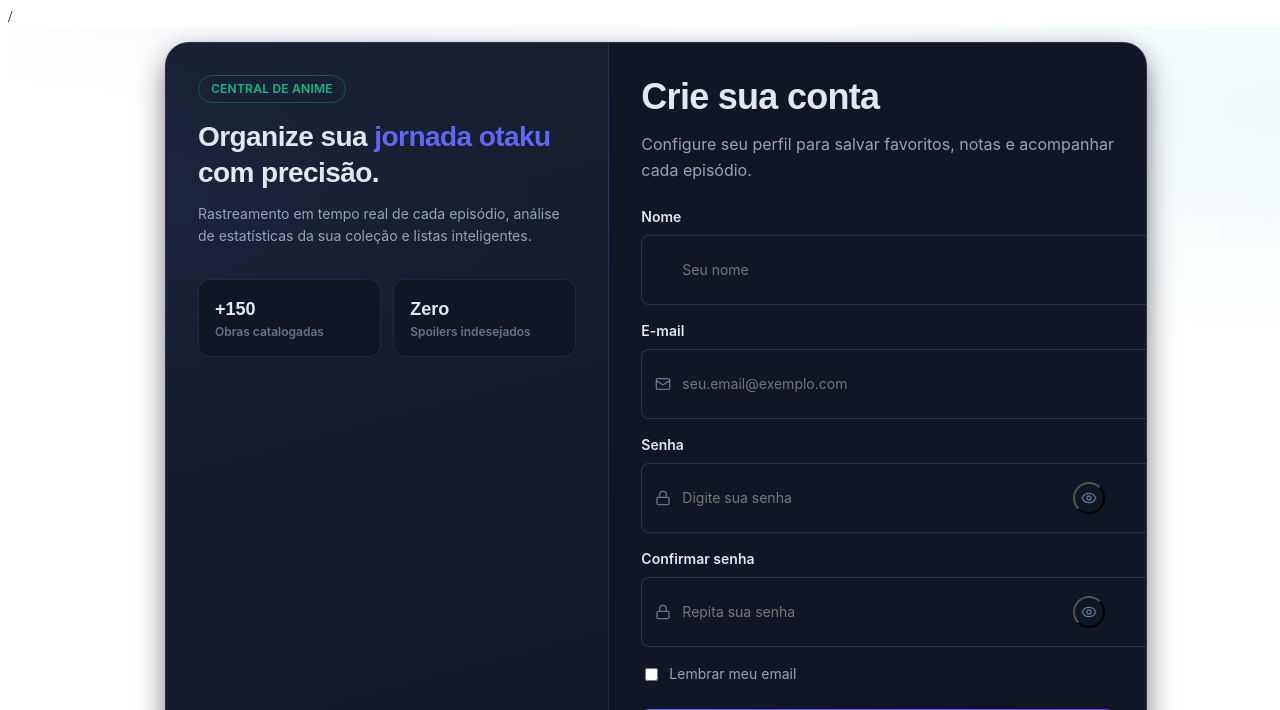
Test: frontend authentication flows › bloqueia cadastro com confirmação divergente sem chamar o serviço
Type "Pessoa" into the field with placeholder "Seu nome" at (919, 270), box [641, 235, 1196, 305]
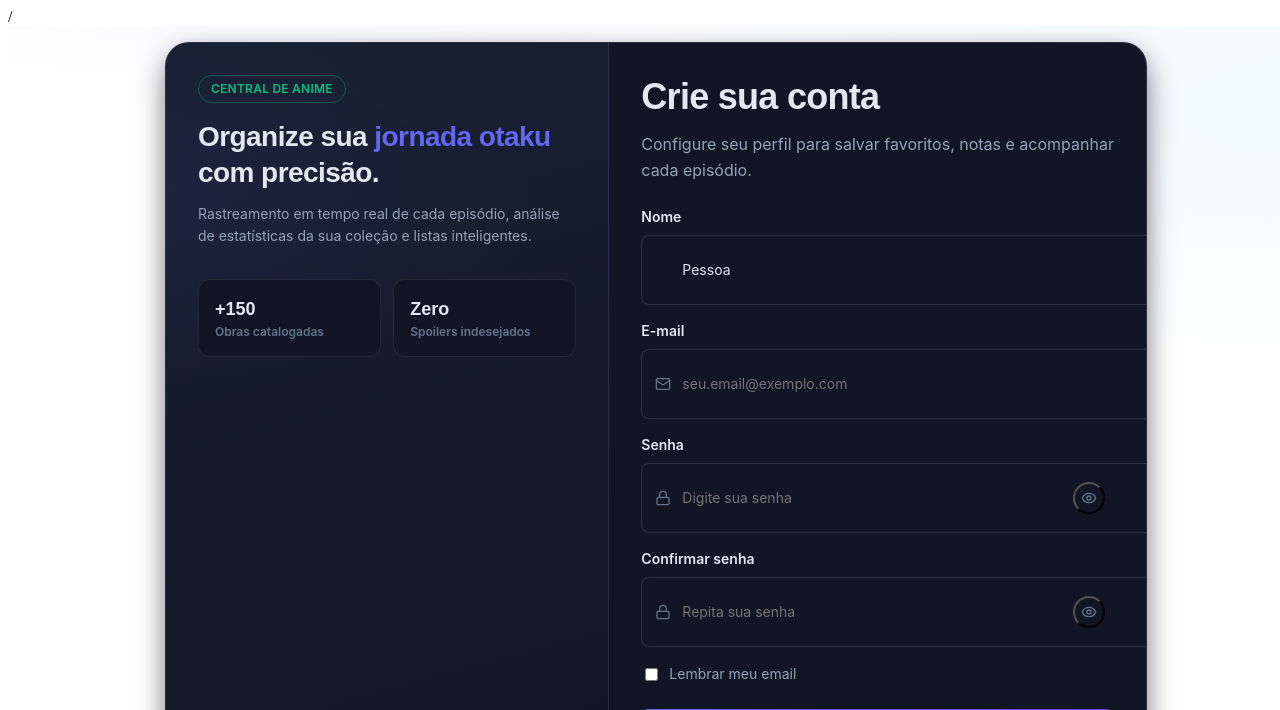
Type "pessoa@example.test" into the field with placeholder "seu.email@exemplo.com" at (919, 384), box [641, 349, 1196, 419]
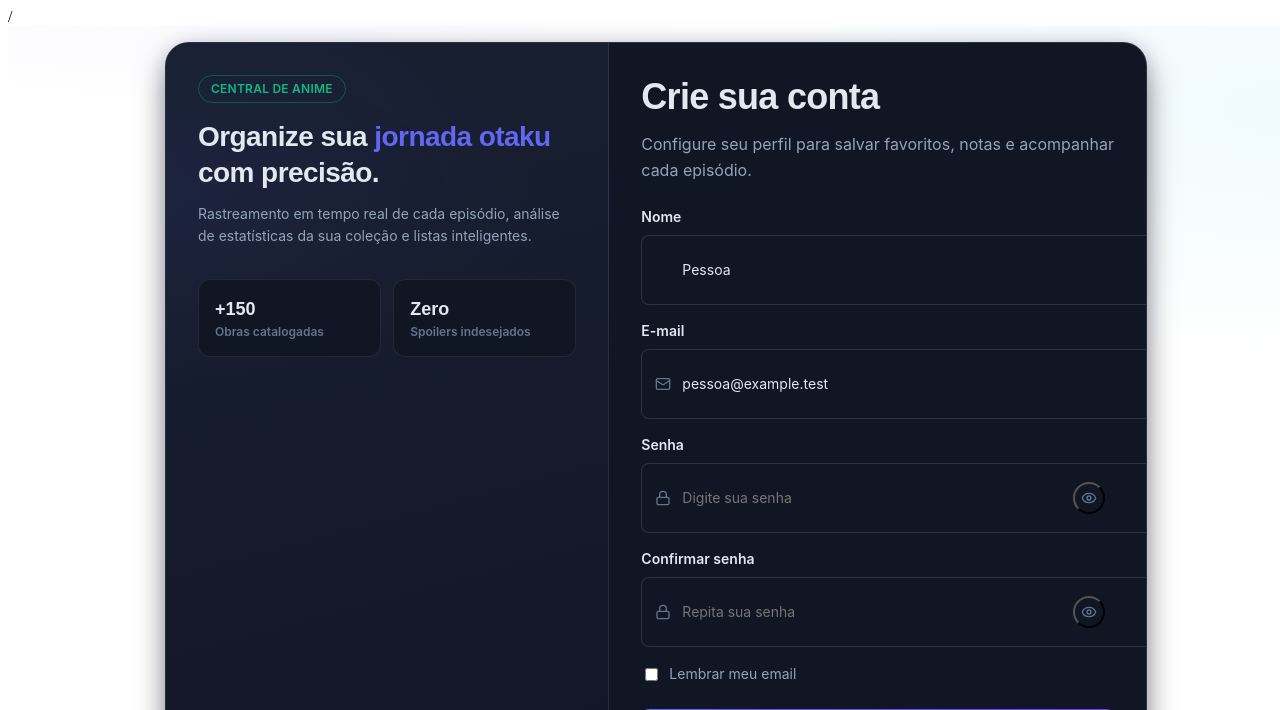
Type "senha-segura" into the password field with placeholder "Digite sua senha" at (919, 498), box [641, 463, 1196, 533]
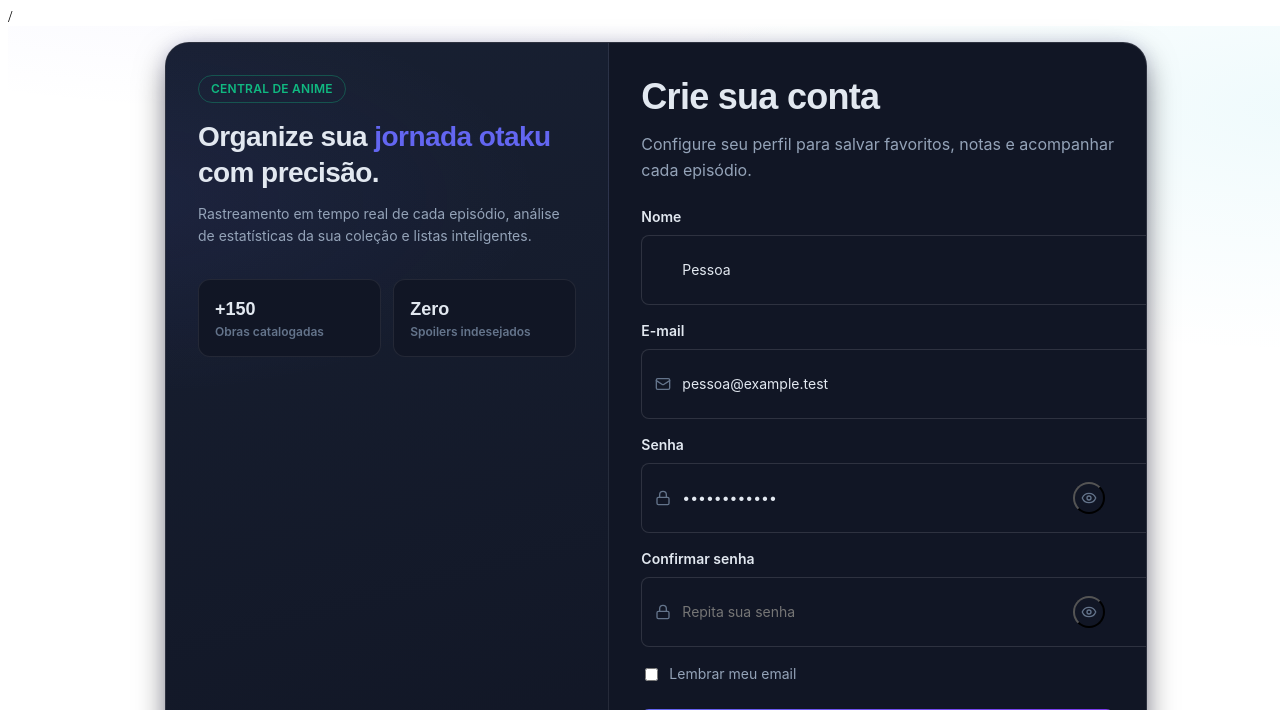
Type "outra-senha" into the password field with placeholder "Repita sua senha" at (919, 612), box [641, 577, 1196, 647]
(page scrolled)
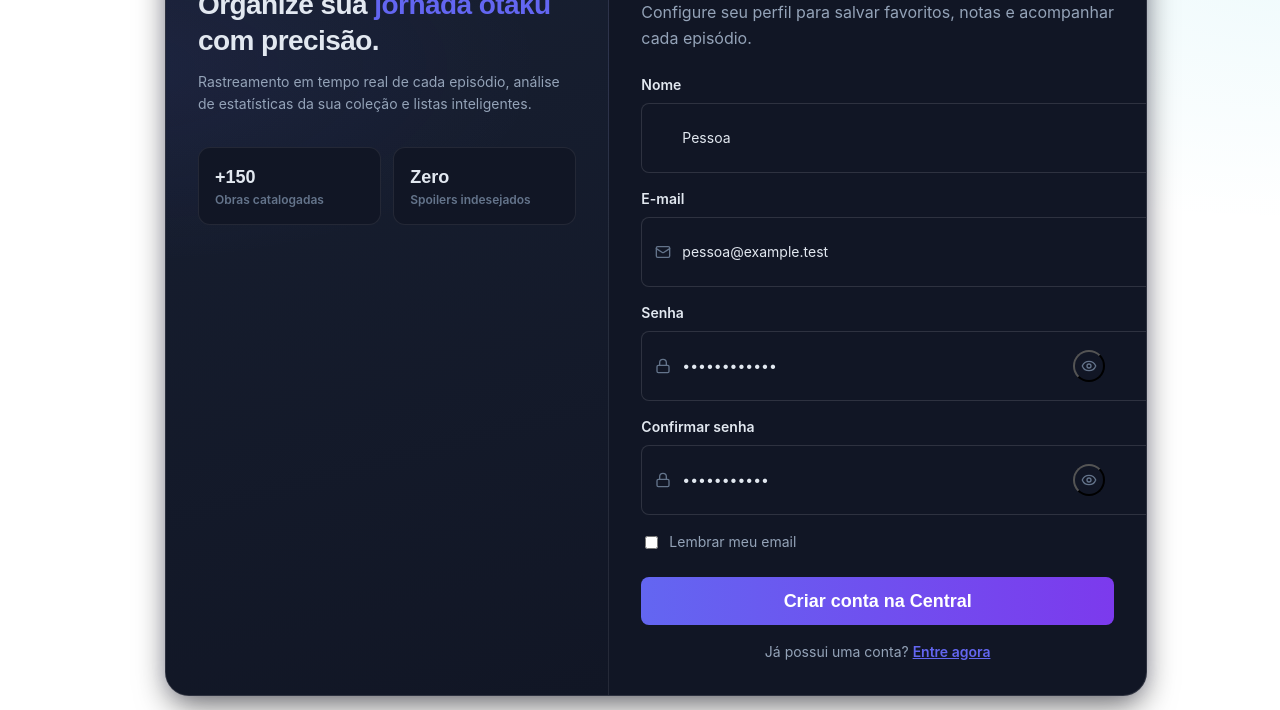
Click the button "Criar conta na Central" at (878, 601), box [641, 577, 1114, 625]
(page scrolled)
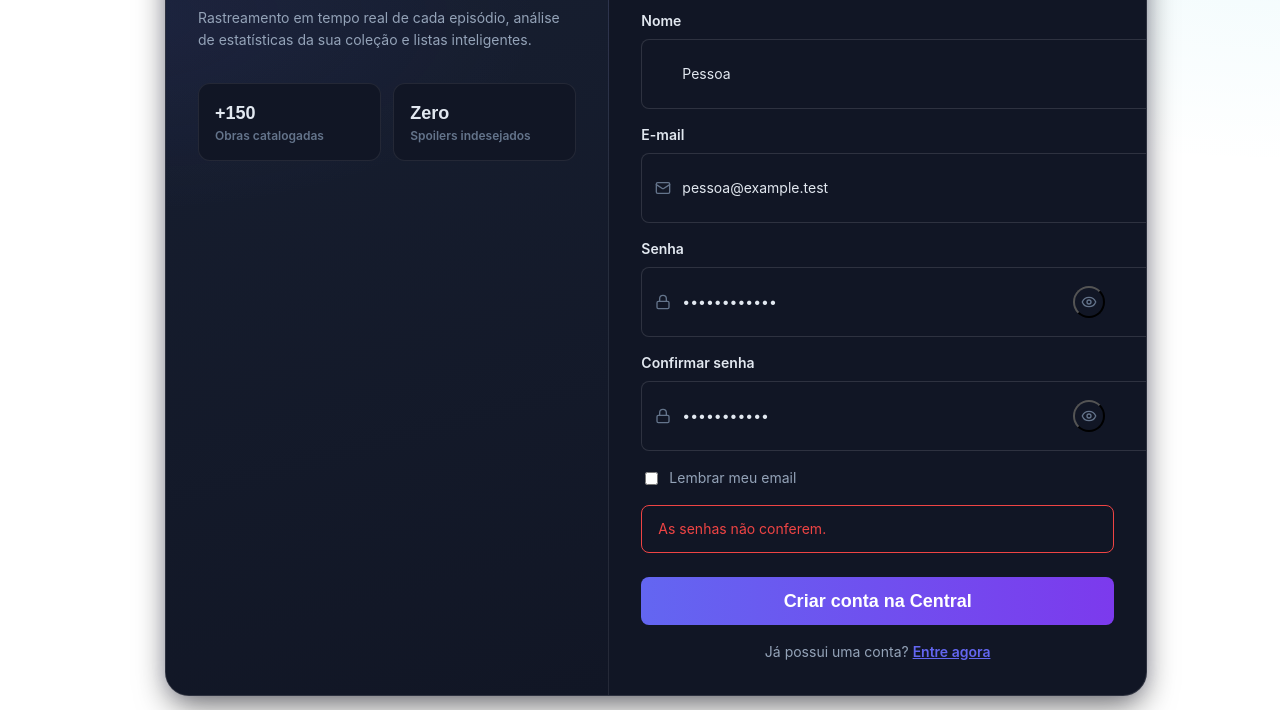
Now the text "As senhas não conferem." is shown, box [641, 505, 1114, 553]
